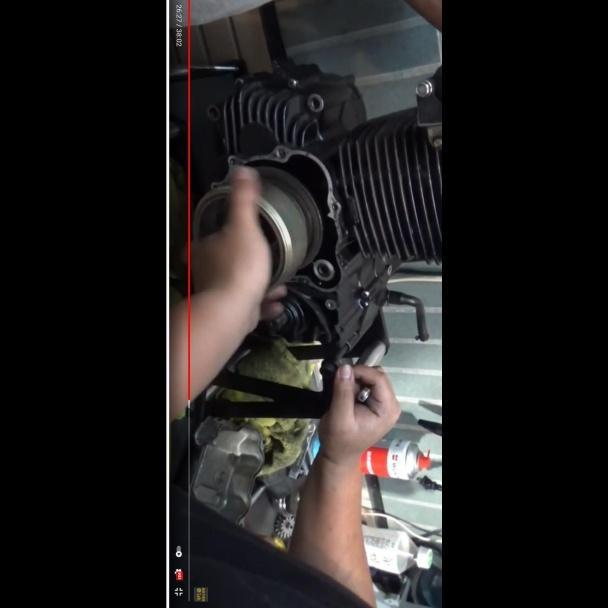hole: (314, 262, 331, 277), (307, 95, 321, 110), (205, 105, 218, 120), (275, 147, 287, 160), (323, 298, 335, 310), (329, 202, 337, 211)
